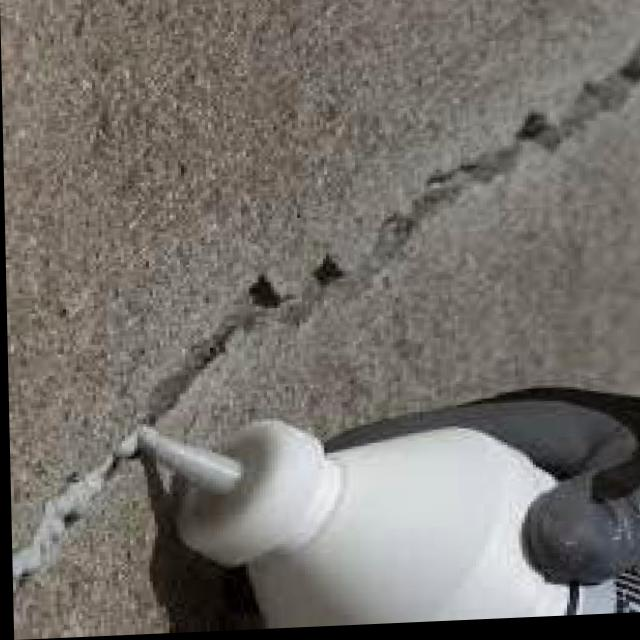Crack: (186, 51, 639, 379)
